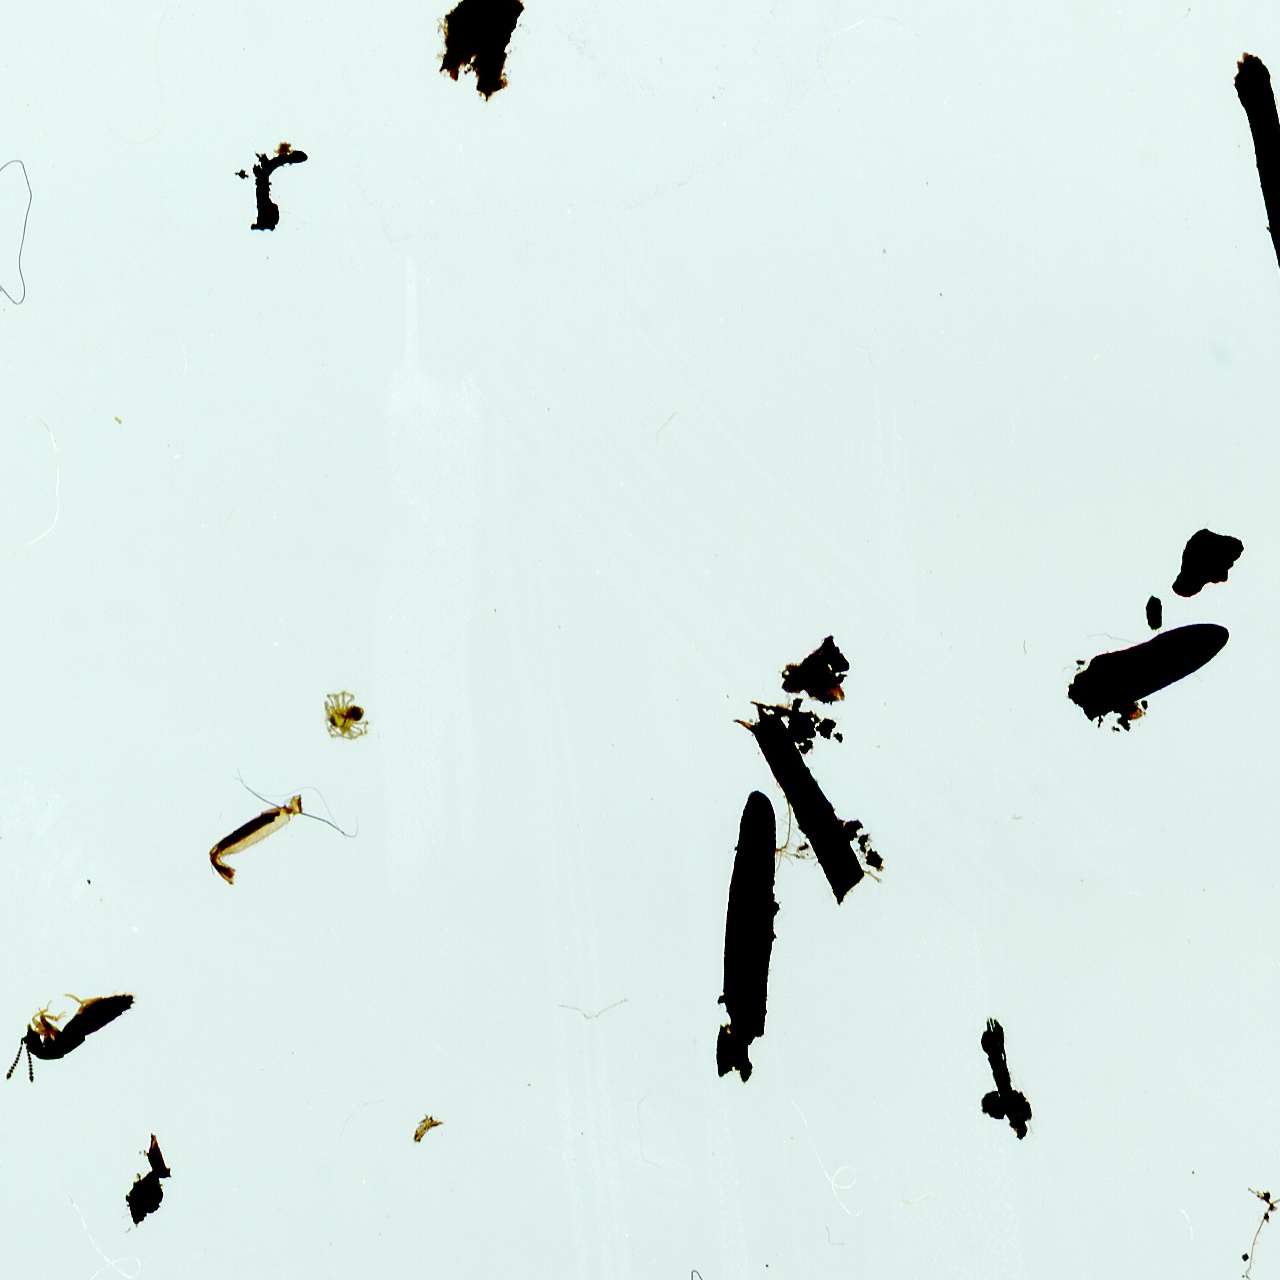arthropod: (0, 954, 155, 1099), (316, 687, 375, 744)
